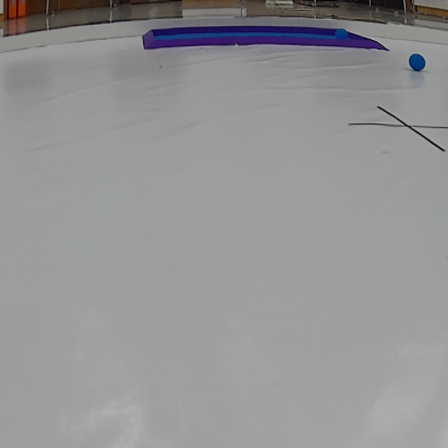blue: (405, 50, 431, 73), (332, 26, 351, 42)
blue_aim: (138, 23, 393, 55)
